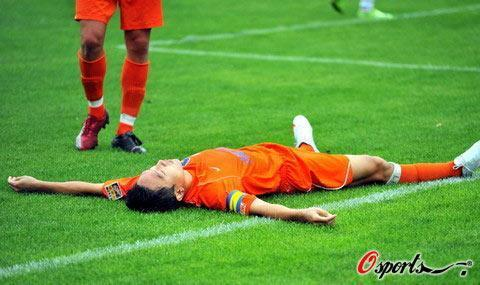Fall-Detected: (0, 111, 480, 228)
